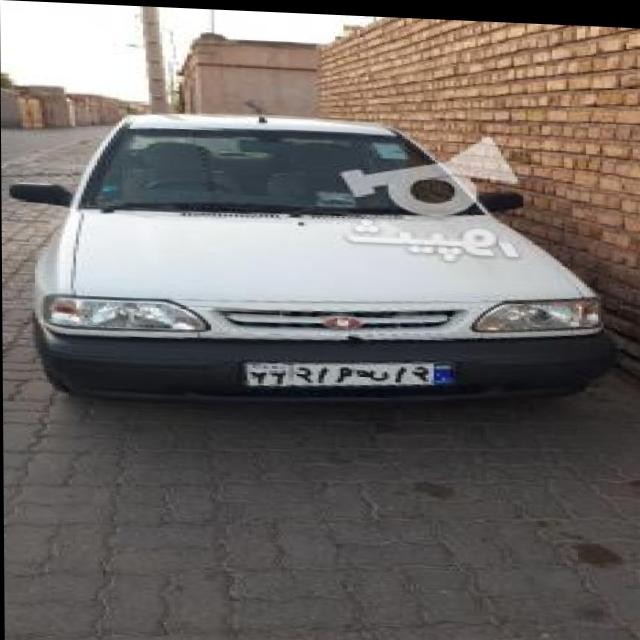licence: (246, 349, 453, 393)
